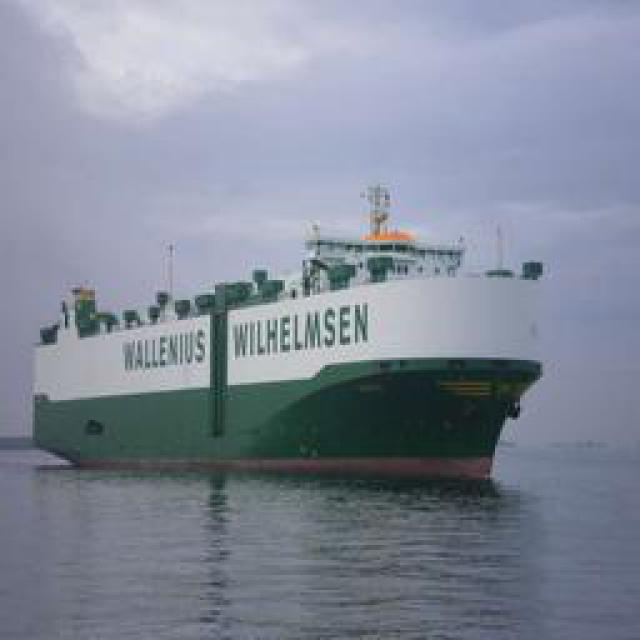Ship: (35, 190, 548, 478)
